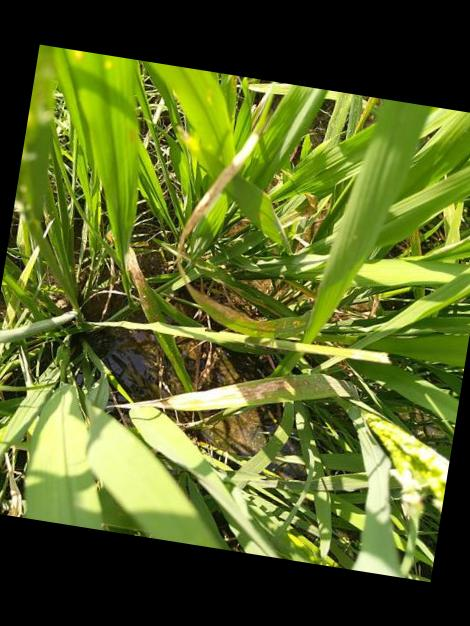Leaf Blight: (175, 125, 262, 251), (174, 256, 305, 338), (109, 374, 358, 414), (122, 245, 159, 322)
